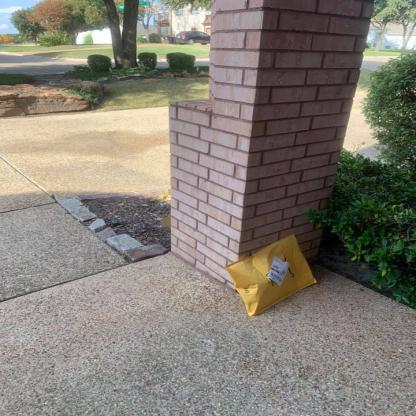envelope: (226, 232, 318, 319)
